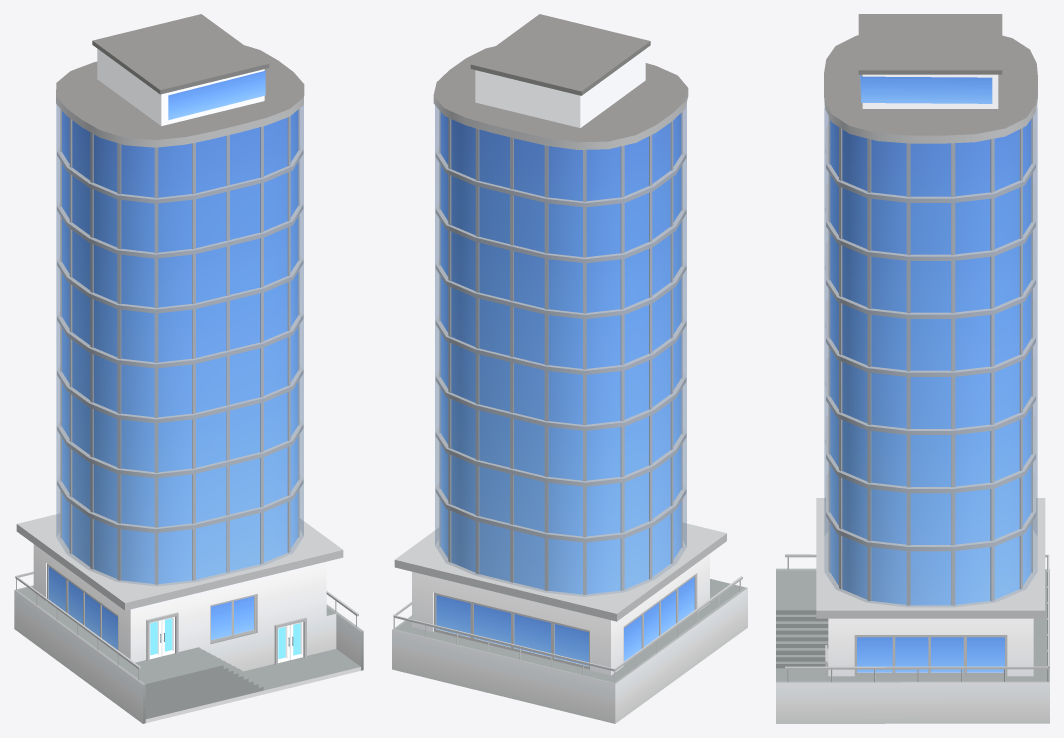
Rendered from city2-building-business-06.glb.
3 views of the same model, side by side, from view 1: azimuth 30°, elevation 25°; view 2: azimuth 150°, elevation 25°; view 3: azimuth 270°, elevation 25° (orthographic). The views are drawn at different scales.
Visible parts, largest first — view 1: Building_Business_06; view 2: Building_Business_06; view 3: Building_Business_06.
Boxes of the visible parts, x1=… form: Building_Business_06: x1=14, y1=14, x2=363, y2=723; Building_Business_06: x1=392, y1=14, x2=747, y2=723; Building_Business_06: x1=776, y1=14, x2=1049, y2=723.
Bounding box in the file's own units: 13.21 × 33.81 × 13.42.
Materials: 2 (2 with a texture image).
